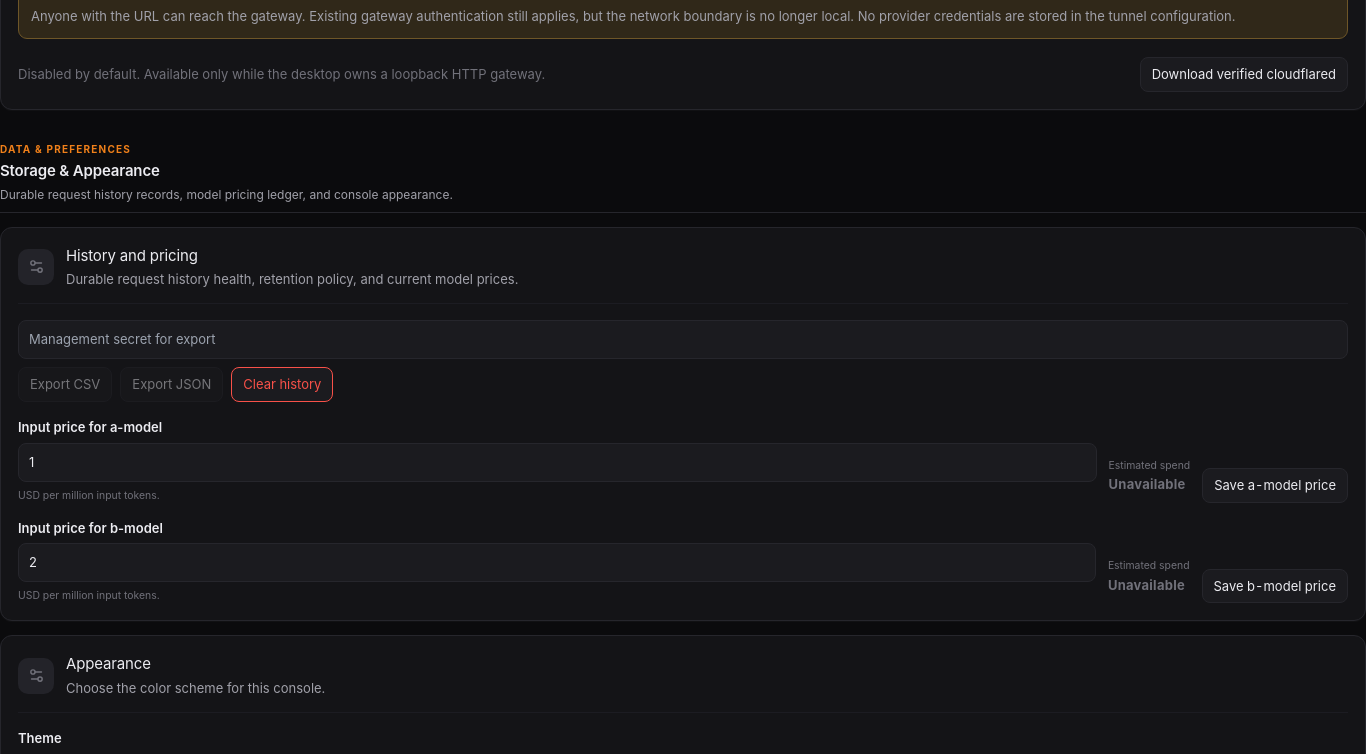
clear-history confirm while busy (item 4) › disables the dialog confirm button while the clear is in flight
(page scrolled)
Click the button "Clear history" at x=282, y=384, box [231,367,333,402]
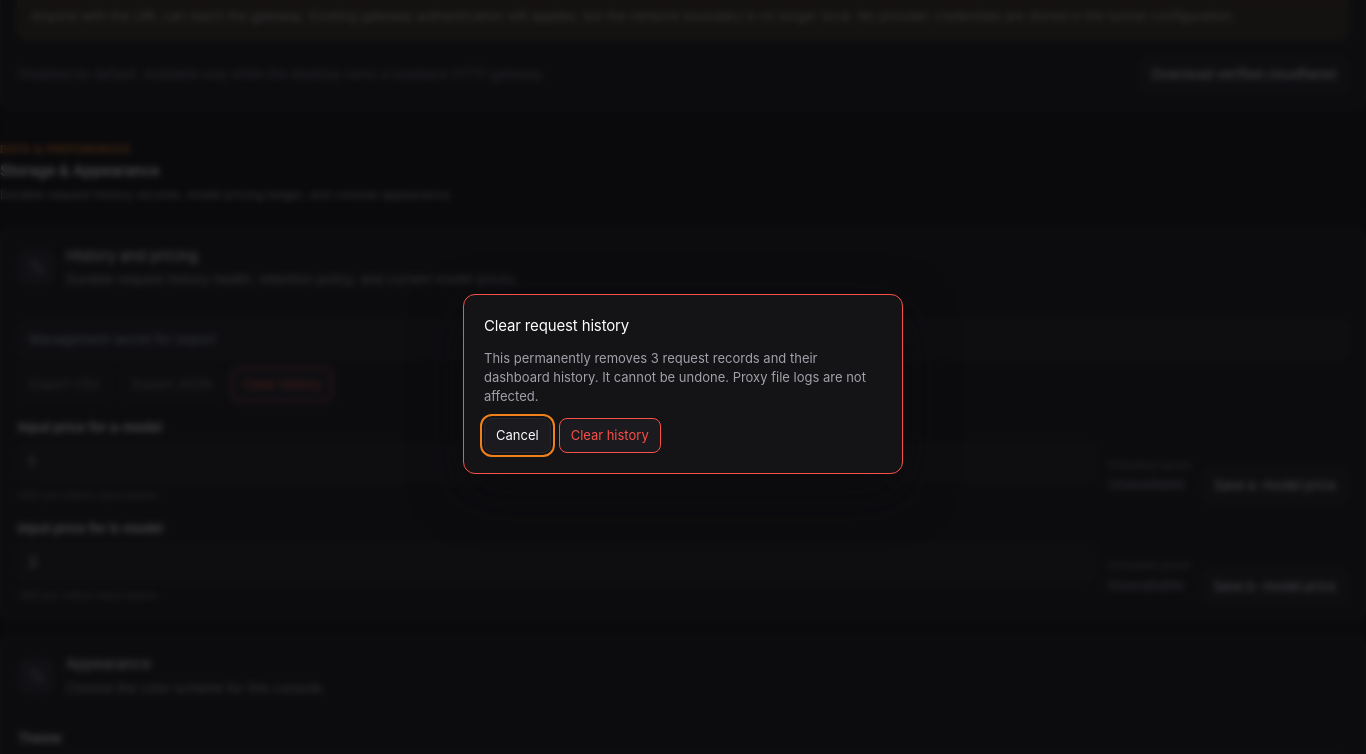
Click the button "Clear history" at x=610, y=435, box [559,418,661,452]
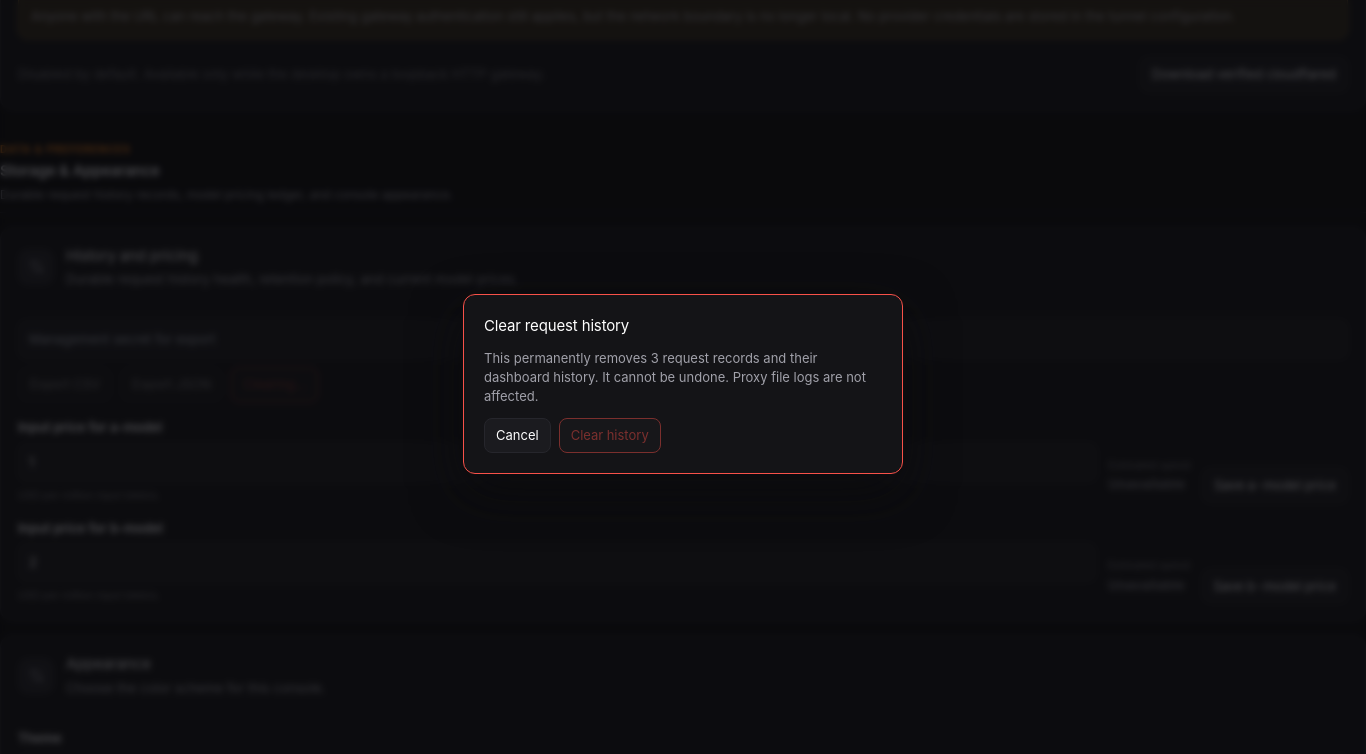
expect the button "Clear history" is disabled: met
Click the button "Clear history" at x=610, y=435, box [559,418,661,452]
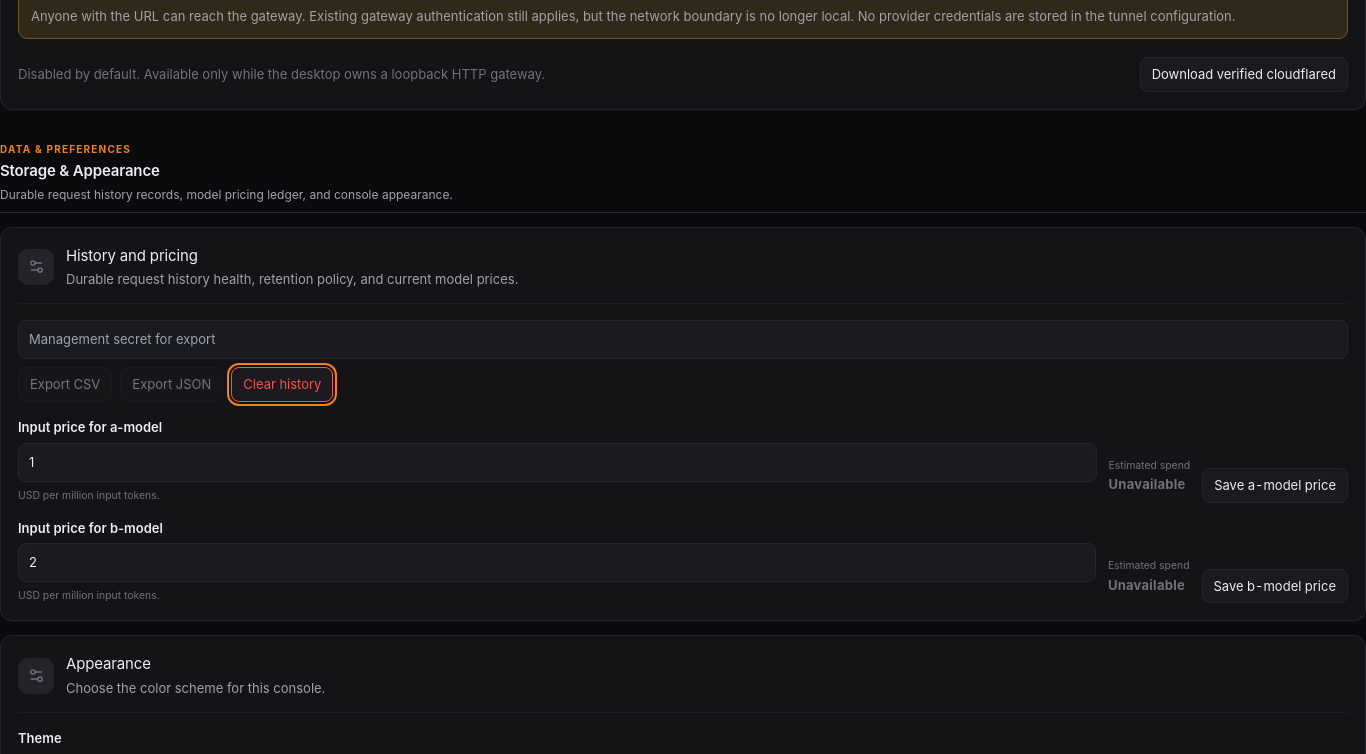
expect the dialog is gone: met
